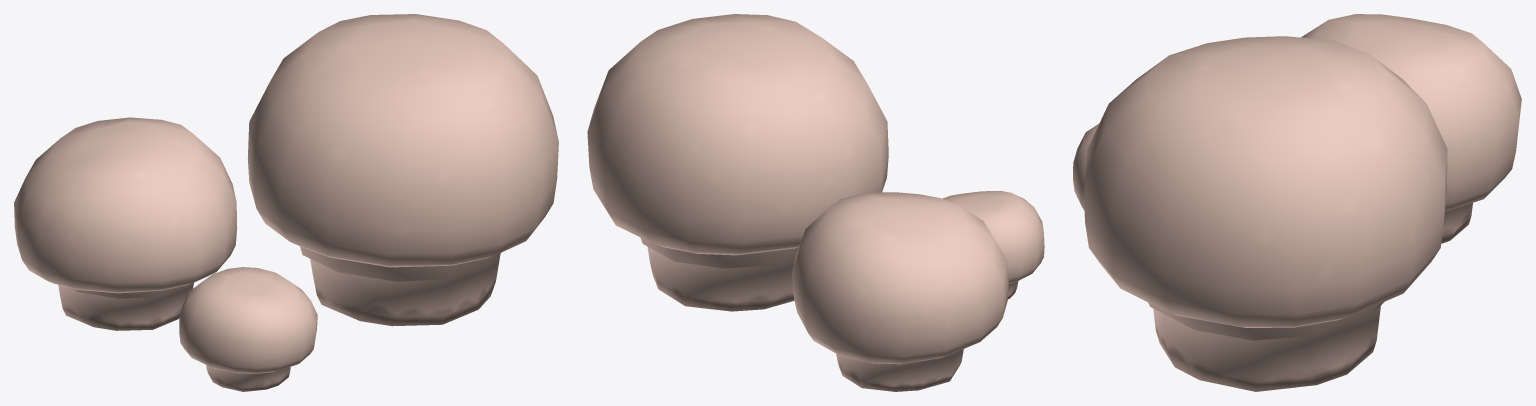
The model's file is mushroom2.glb.
The picture shows the model from 3 angles, left to right: view 1: azimuth 30°, elevation 25°; view 2: azimuth 150°, elevation 25°; view 3: azimuth 270°, elevation 25°; orthographic projection. The views are drawn at different scales.
Parts seen in each view (by area): view 1: Object_2; view 2: Object_2; view 3: Object_2.
Part boxes in pixels (box(x1,y1,x2,y2)): Object_2: box(14, 14, 558, 391); Object_2: box(587, 14, 1044, 391); Object_2: box(1073, 14, 1521, 391).
Size of the model in its own units: 0.6713 by 0.3463 by 0.4927.
Materials: 1 (1 with a texture image).
